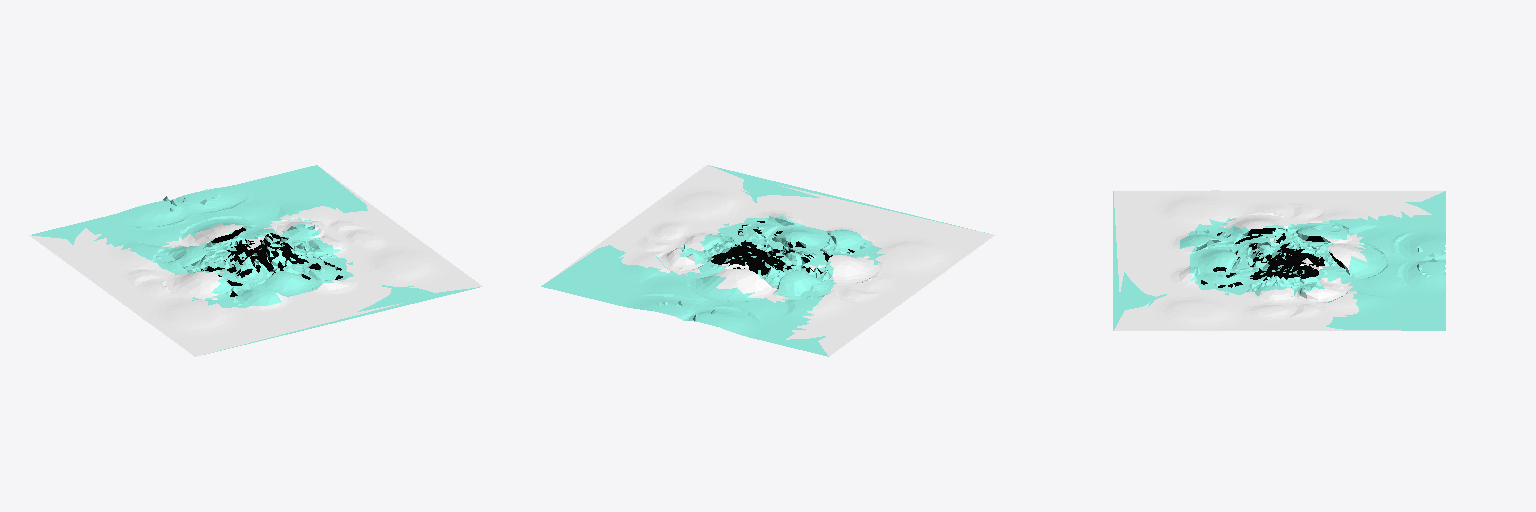
File: SnowWorldSpikes.obj
3 views of the same model, side by side, from view 1: azimuth 30°, elevation 25°; view 2: azimuth 150°, elevation 25°; view 3: azimuth 270°, elevation 25° (orthographic).
Visible parts, largest first — view 1: Landscape.001; view 2: Landscape.001; view 3: Landscape.001.
Part boxes in pixels (x1,y1,x2,y2): Landscape.001: (29, 165, 482, 356); Landscape.001: (541, 165, 994, 356); Landscape.001: (1113, 190, 1445, 330).
Size of the model in its own units: 2006 by 65.31 by 2001.